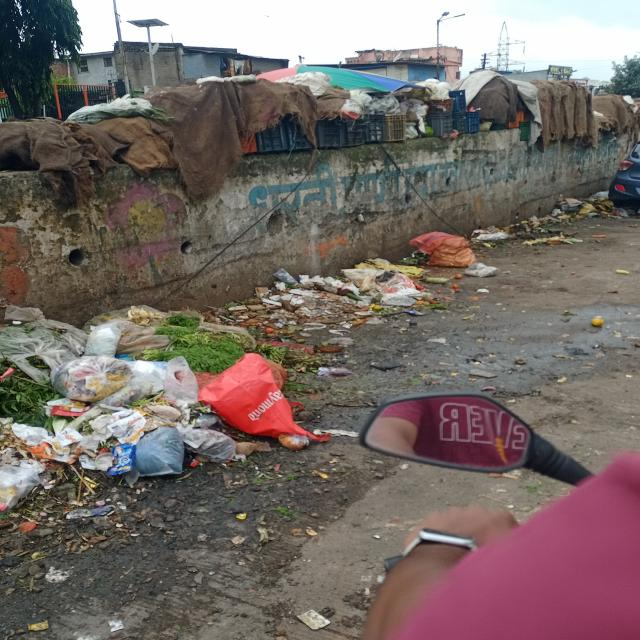garbage: (0, 307, 313, 492), (232, 211, 588, 333)
